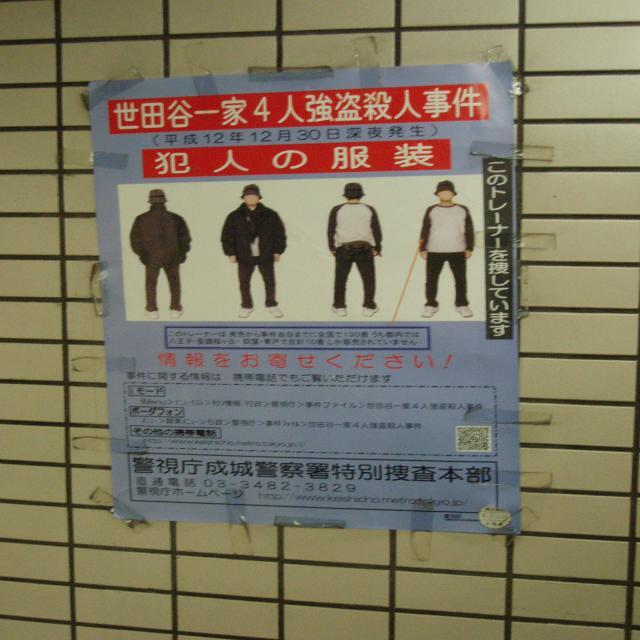qrcode: (459, 429, 491, 452)
